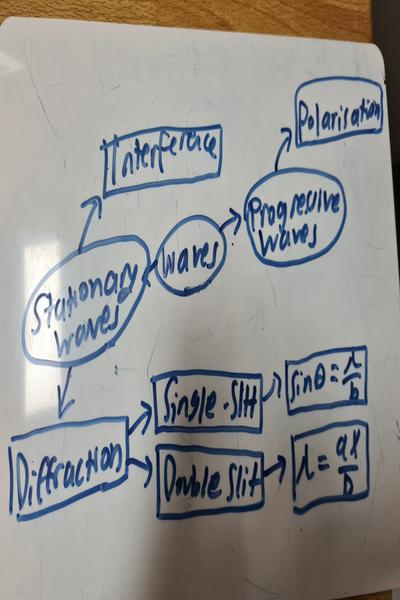arrow: (78, 195, 104, 246), (57, 367, 75, 421), (274, 126, 294, 169), (129, 455, 154, 489), (129, 402, 153, 437), (218, 209, 242, 237), (265, 372, 283, 404), (266, 455, 287, 482), (143, 258, 157, 288)
idea: (7, 416, 131, 523), (100, 125, 225, 198), (154, 442, 266, 520), (289, 420, 369, 515), (151, 370, 264, 436), (296, 77, 386, 149), (284, 347, 369, 416)
topic: (19, 235, 148, 369), (245, 169, 348, 267), (156, 215, 227, 297)
